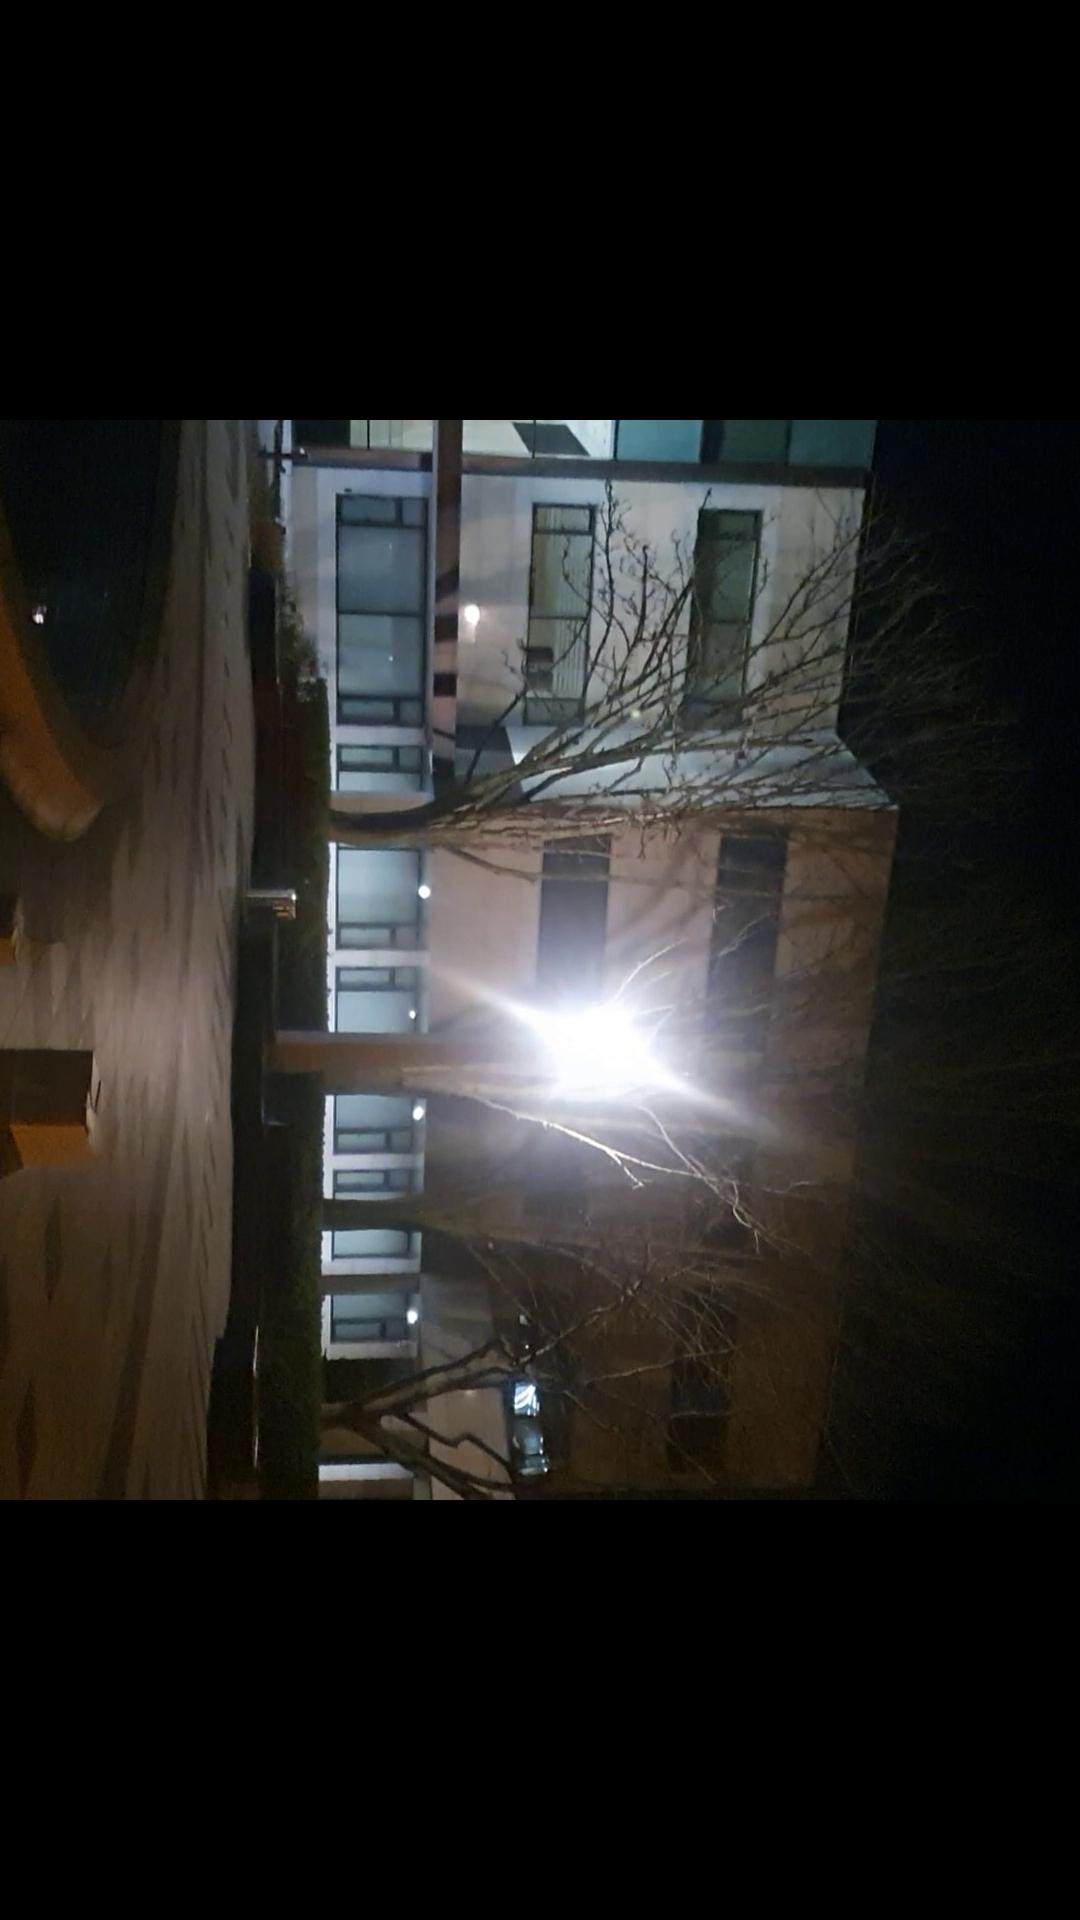Box: (0, 1040, 105, 1172), (0, 881, 30, 971)
